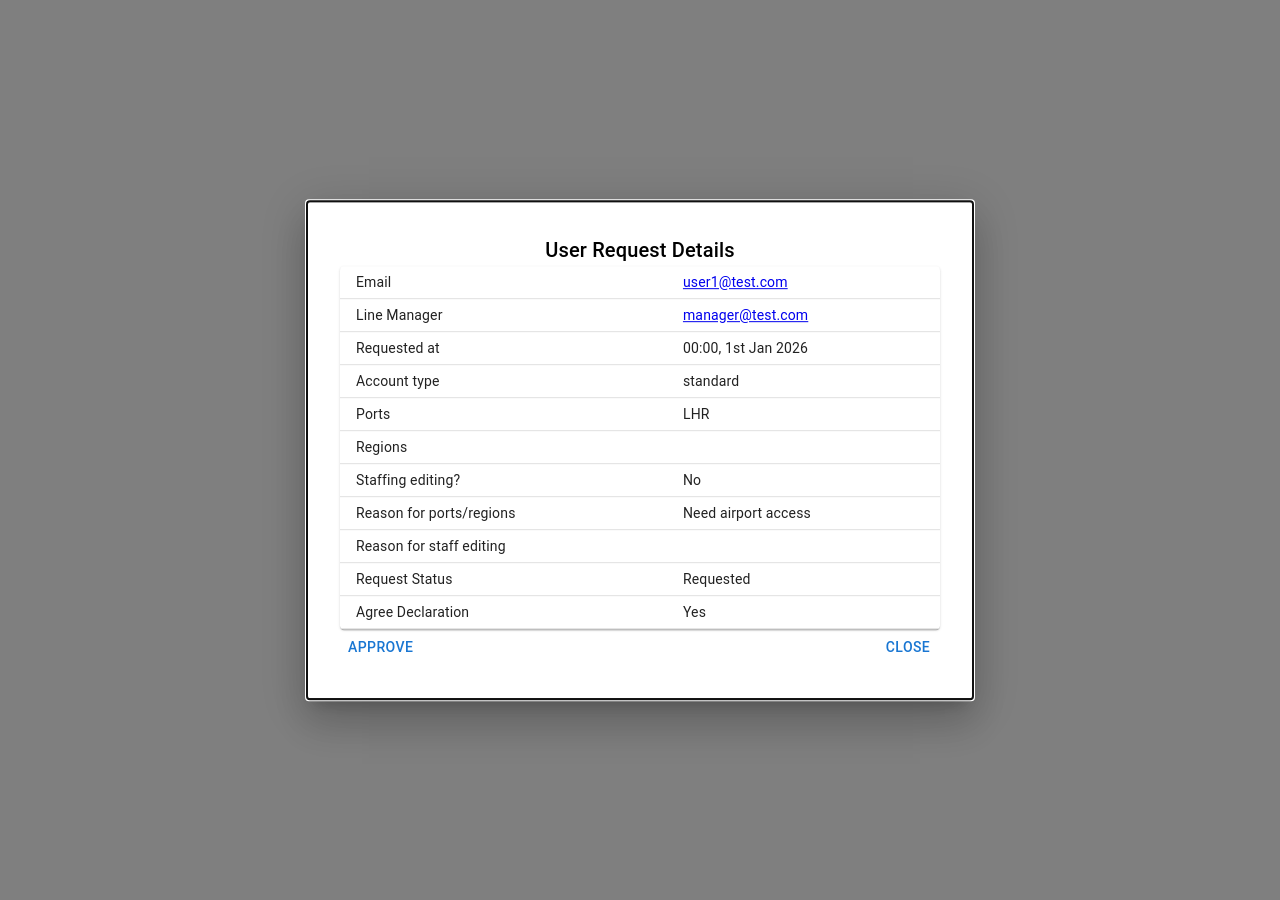
Test: <AccessRequestDetails /> › shows an approval failure confirmation when loading user details fails
Click the button "Approve" at [381, 648], box [340, 629, 421, 666]
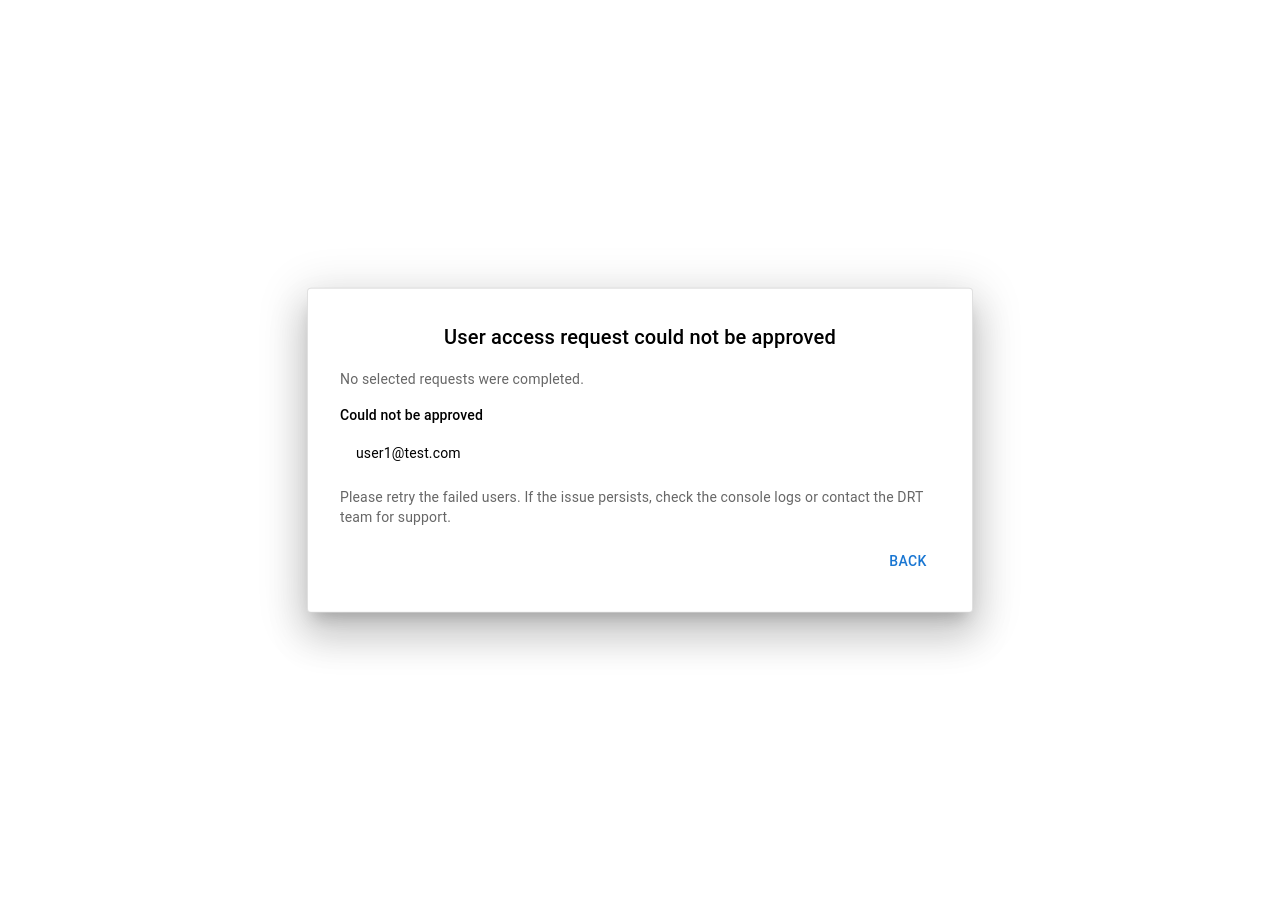
Expected: the heading "User access request could not be approved" is shown, [444, 325, 836, 349]
Expected: the text "No selected requests were completed." is shown, [340, 371, 584, 387]
Expected: the heading "Could not be approved" is shown, [340, 407, 483, 423]
